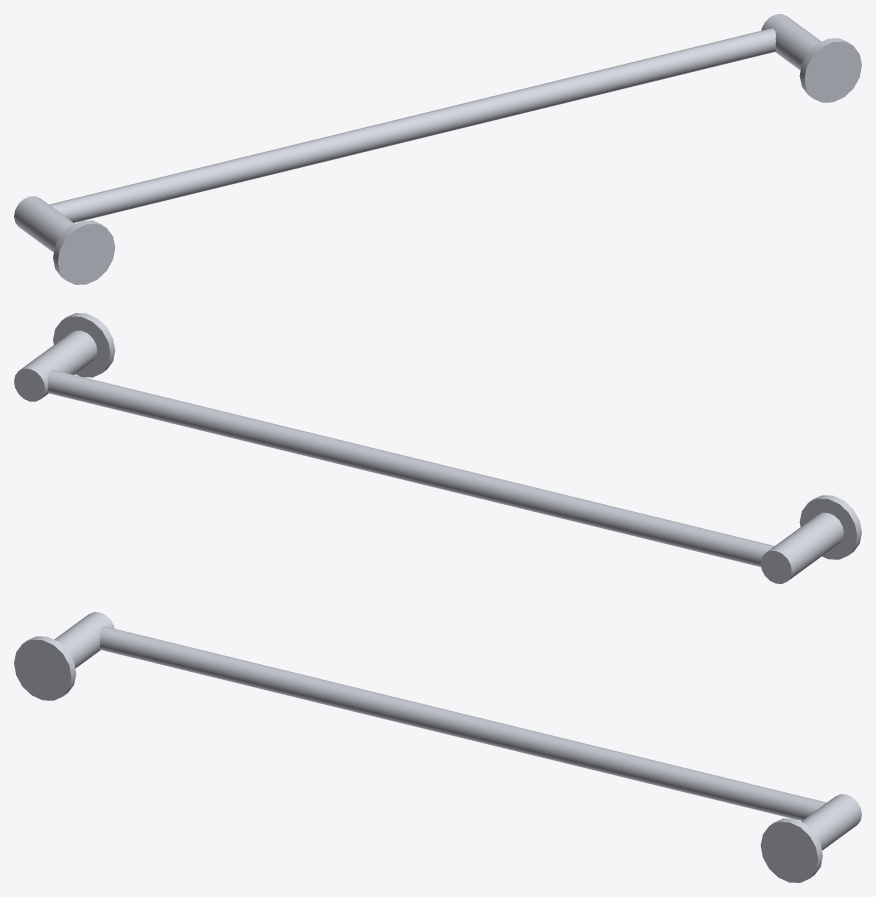
File: TowelHanger02.fbx
3 views of the same model, one above another, from view 1: azimuth 30°, elevation 25°; view 2: azimuth 150°, elevation 25°; view 3: azimuth 330°, elevation 25° (orthographic).
Visible parts, largest first — view 1: TowelHanger02; view 2: TowelHanger02; view 3: TowelHanger02.
Part boxes in pixels (<box>): TowelHanger02: <box>14,14,861,284</box>; TowelHanger02: <box>14,313,861,583</box>; TowelHanger02: <box>14,612,861,882</box>.
Bounding box in the file's own units: 83.45 × 5.97 × 10.24.
